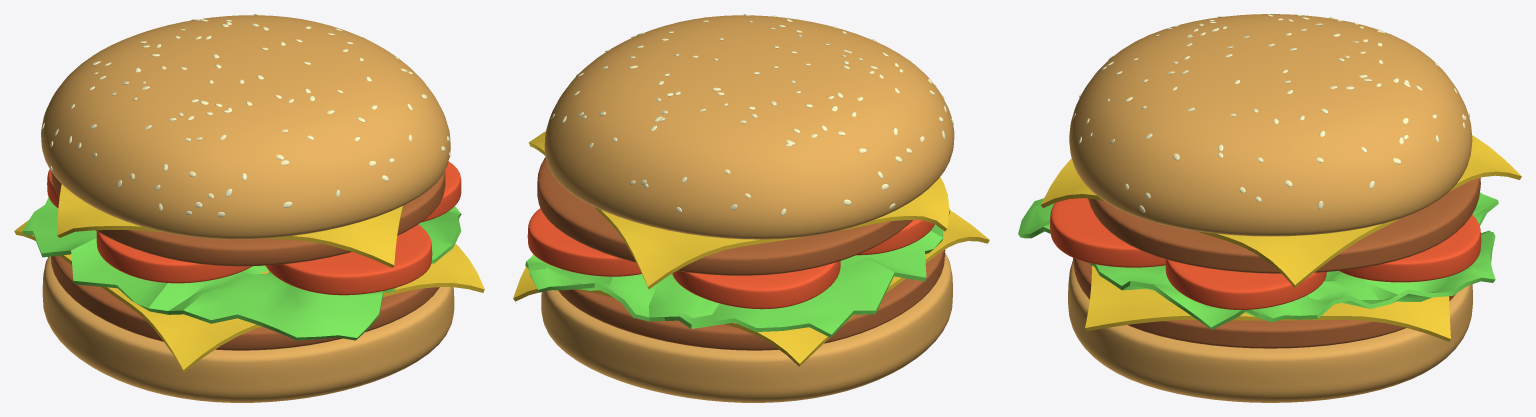
The model's file is hamburger.glb.
The picture shows the model from 3 angles, left to right: view 1: azimuth 30°, elevation 25°; view 2: azimuth 150°, elevation 25°; view 3: azimuth 270°, elevation 25°; orthographic projection.
Visible parts, largest first — view 1: Bread top.002, Bread bottom, Salad, Meat 2, Cheese, Tomato.004, Meat, Cheese 2, Tomato, Tomato.003; view 2: Bread top.002, Bread bottom, Salad, Meat 2, Meat, Cheese 2, Tomato.001, Cheese, Tomato.002, Tomato; view 3: Bread top.002, Bread bottom, Meat 2, Salad, Cheese 2, Cheese, Meat, Tomato.003, Tomato.004, Tomato.002.
Boxes of the visible parts, bbox=[...] form: Bread top.002: bbox=[41, 15, 450, 239]; Bread bottom: bbox=[42, 256, 454, 402]; Salad: bbox=[22, 197, 461, 340]; Meat 2: bbox=[51, 171, 445, 266]; Cheese: bbox=[14, 220, 484, 372]; Tomato.004: bbox=[266, 224, 432, 295]; Meat: bbox=[51, 255, 439, 350]; Cheese 2: bbox=[57, 184, 403, 267]; Tomato: bbox=[96, 231, 251, 283]; Tomato.003: bbox=[421, 161, 461, 222]; Bread top.002: bbox=[544, 15, 954, 239]; Bread bottom: bbox=[541, 252, 952, 402]; Salad: bbox=[525, 209, 950, 337]; Meat 2: bbox=[537, 156, 912, 275]; Meat: bbox=[558, 250, 945, 350]; Cheese 2: bbox=[528, 131, 949, 289]; Tomato.001: bbox=[672, 261, 840, 309]; Cheese: bbox=[513, 210, 989, 366]; Tomato.002: bbox=[527, 208, 641, 276]; Tomato: bbox=[856, 220, 934, 255]; Bread top.002: bbox=[1069, 14, 1472, 236]; Bread bottom: bbox=[1068, 260, 1472, 402]; Meat 2: bbox=[1088, 178, 1480, 273]; Salad: bbox=[1018, 192, 1498, 329]; Cheese 2: bbox=[1041, 135, 1521, 287]; Cheese: bbox=[1085, 265, 1450, 341]; Meat: bbox=[1073, 258, 1455, 348]; Tomato.003: bbox=[1165, 259, 1326, 309]; Tomato.004: bbox=[1050, 198, 1165, 267]; Tomato.002: bbox=[1339, 214, 1481, 282].
Size of the model in its own units: 21.12 by 14.48 by 22.83.
